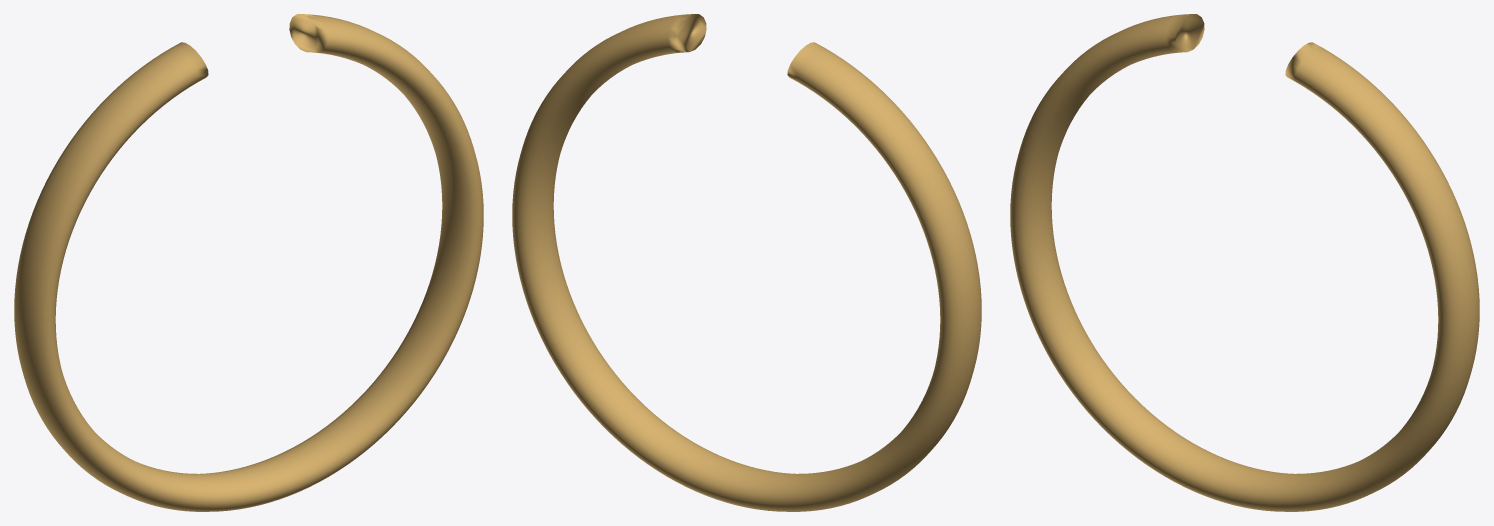
Rendered from bands-open.glb.
3 views of the same model, side by side, from view 1: azimuth 30°, elevation 25°; view 2: azimuth 150°, elevation 25°; view 3: azimuth 330°, elevation 25° (orthographic).
Visible parts, largest first — view 1: Band; view 2: Band; view 3: Band.
Boxes of the visible parts, x1=… form: Band: x1=14, y1=14, x2=483, y2=511; Band: x1=512, y1=14, x2=981, y2=511; Band: x1=1010, y1=14, x2=1479, y2=511.
Bounding box in the file's own units: 19.6 × 19.27 × 2.1.
